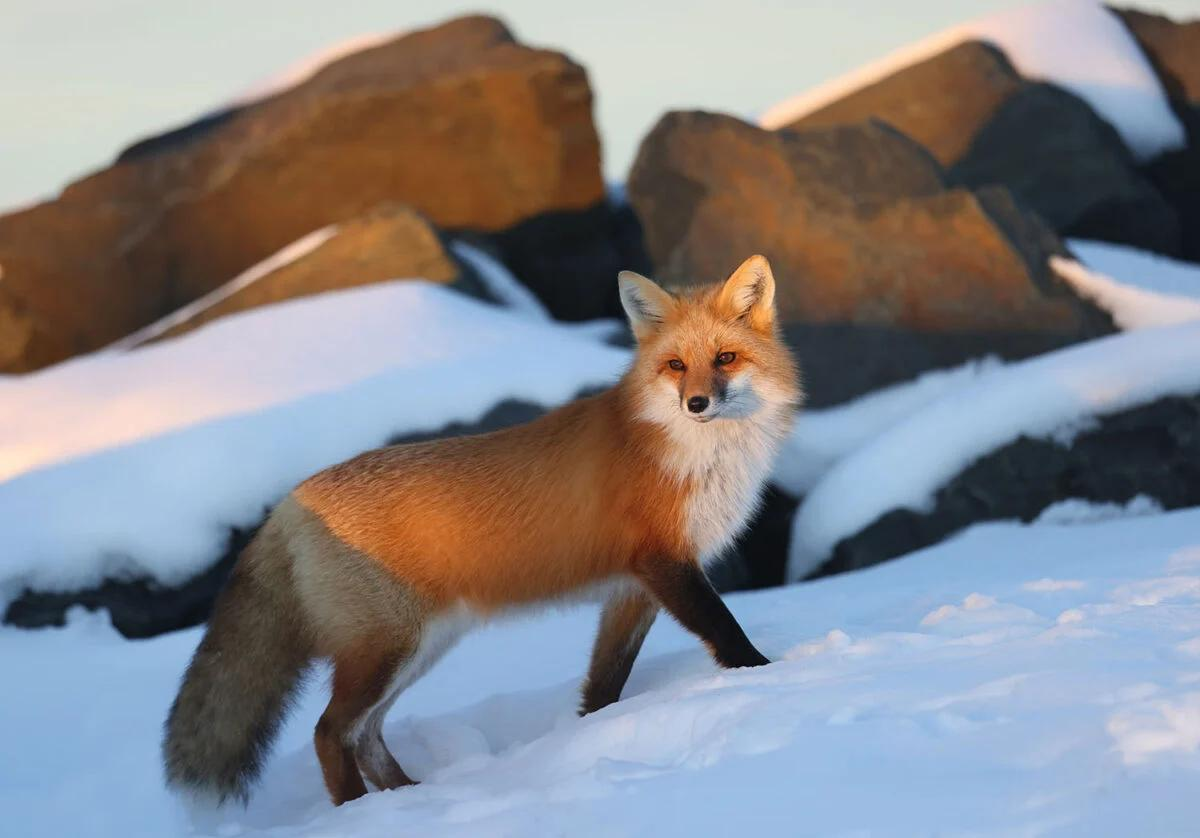fox: (160, 251, 809, 808)
